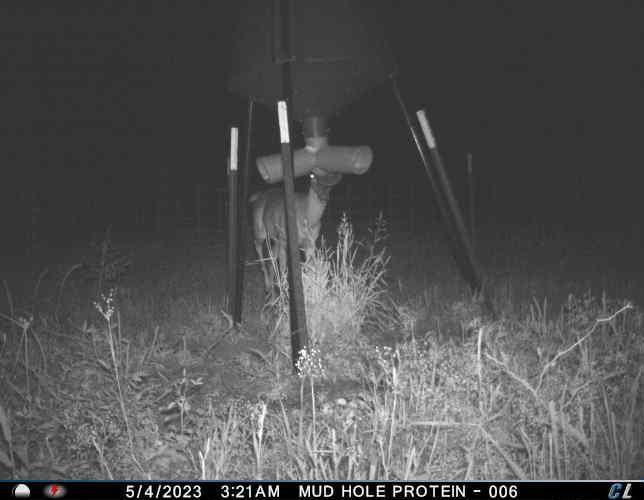Deer: (251, 170, 341, 298)
